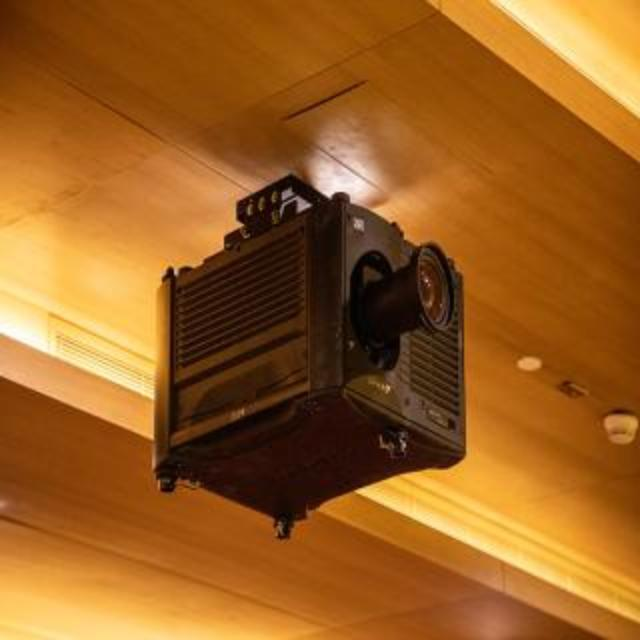Projector: (154, 172, 464, 540)
